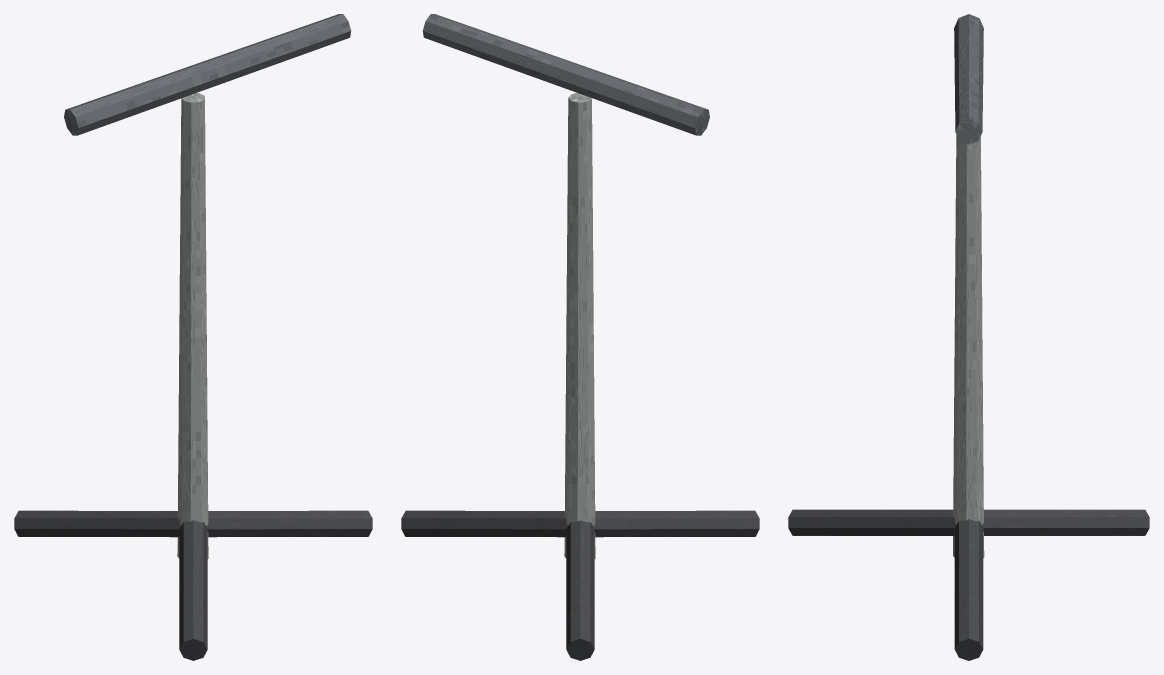
File: mic_stand_tall.glb
The picture shows the model from 3 angles, left to right: view 1: azimuth 30°, elevation 25°; view 2: azimuth 150°, elevation 25°; view 3: azimuth 270°, elevation 25°; orthographic projection.
Visible parts, largest first — view 1: block_tripod leg (×3), block_microphone stand pole, block_tilted boom; view 2: block_tripod leg (×3), block_microphone stand pole, block_tilted boom; view 3: block_tripod leg (×3), block_microphone stand pole, block_tilted boom.
Part boxes in pixels (box(x1,y1,x2,y2)): block_tripod leg (×3): box(14, 510, 372, 660); block_microphone stand pole: box(177, 93, 208, 558); block_tilted boom: box(64, 14, 351, 135); block_tripod leg (×3): box(401, 510, 759, 660); block_microphone stand pole: box(564, 93, 595, 558); block_tilted boom: box(422, 14, 709, 135); block_tripod leg (×3): box(788, 509, 1149, 660); block_microphone stand pole: box(953, 134, 984, 558); block_tilted boom: box(954, 14, 983, 144).
Size of the model in its own units: 0.1462 by 0.2471 by 0.1521.
Materials: 1 (1 with a texture image).
